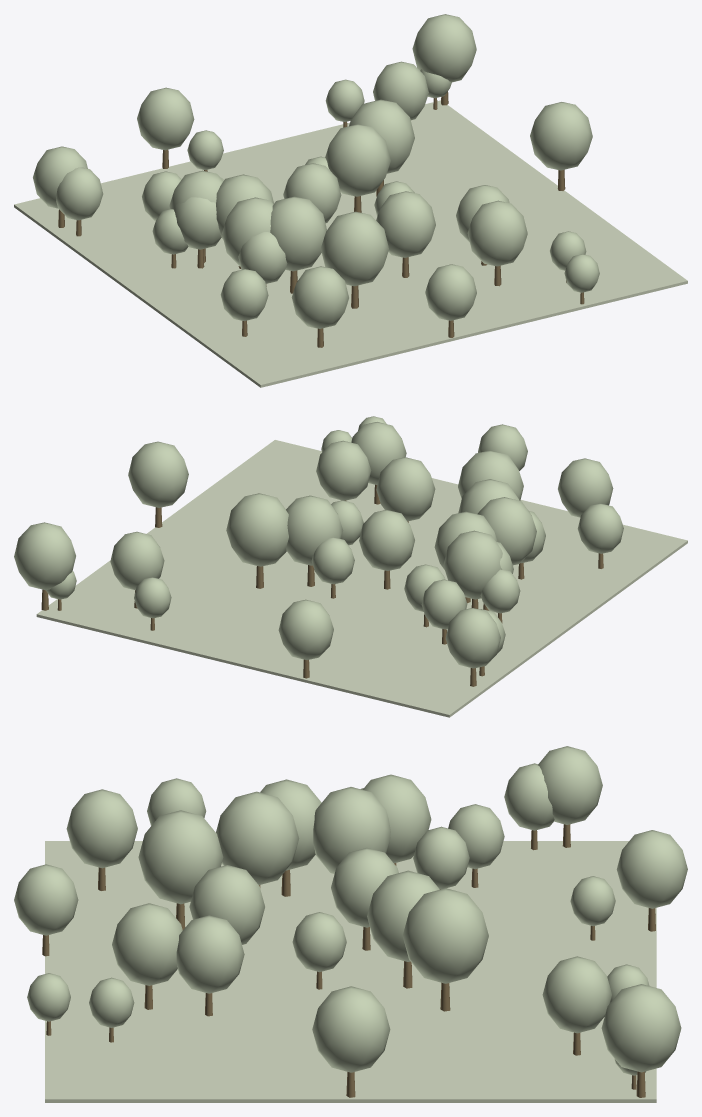
3 renders of one model, top to bottom at view 1: azimuth 30°, elevation 25°; view 2: azimuth 150°, elevation 25°; view 3: azimuth 270°, elevation 25°, orthographic. The views are drawn at different scales.
Parts seen in each view (by area): view 1: terrain, lod-near-16, lod-near-27, lod-near-8, lod-near-23, lod-near-19, lod-near-3, lod-near-0, lod-near-12, lod-near-21, lod-near-26, lod-near-9 (+17 smaller); view 2: terrain, lod-near-26, lod-near-23, lod-near-8, lod-near-28, lod-near-0, lod-near-27, lod-near-15, lod-near-6, lod-near-21, lod-near-11, lod-near-29 (+16 smaller); view 3: terrain, lod-near-26, lod-near-19, lod-near-16, lod-near-23, lod-near-8, lod-near-24, lod-near-3, lod-near-12, lod-near-21, lod-near-11, lod-near-25 (+16 smaller).
Part boxes in pixels (x1,y1,x2,y2): terrain: (14, 100, 687, 387); lod-near-16: (320, 211, 388, 286); lod-near-27: (325, 124, 390, 196); lod-near-8: (530, 102, 592, 170); lod-near-23: (412, 14, 476, 82); lod-near-19: (270, 196, 326, 271); lod-near-3: (467, 200, 527, 266); lod-near-0: (376, 191, 435, 257); lod-near-12: (291, 266, 348, 328); lod-near-21: (137, 87, 194, 150); lod-near-26: (349, 99, 414, 173); lod-near-9: (425, 264, 476, 320); terrain: (36, 440, 687, 717); lod-near-26: (226, 493, 288, 566); lod-near-23: (14, 522, 75, 590); lod-near-8: (128, 441, 188, 507); lod-near-28: (443, 530, 502, 599); lod-near-0: (376, 457, 435, 521); lod-near-27: (286, 495, 343, 565); lod-near-15: (359, 509, 414, 570); lod-near-6: (445, 608, 500, 668); lod-near-21: (278, 599, 333, 659); lod-near-11: (316, 440, 371, 500); lod-near-29: (477, 497, 536, 565); terrain: (45, 841, 656, 1102); lod-near-26: (402, 888, 488, 983); lod-near-19: (216, 791, 299, 884); lod-near-16: (138, 810, 223, 904); lod-near-23: (601, 984, 681, 1072); lod-near-8: (312, 986, 390, 1072); lod-near-24: (313, 787, 390, 873); lod-near-3: (112, 903, 182, 985); lod-near-12: (66, 789, 137, 868); lod-near-21: (616, 830, 687, 908); lod-near-11: (176, 915, 244, 993); lod-near-25: (542, 956, 611, 1033).
Bounding box in the file's own units: 34.89 × 7.14 × 35.26.
